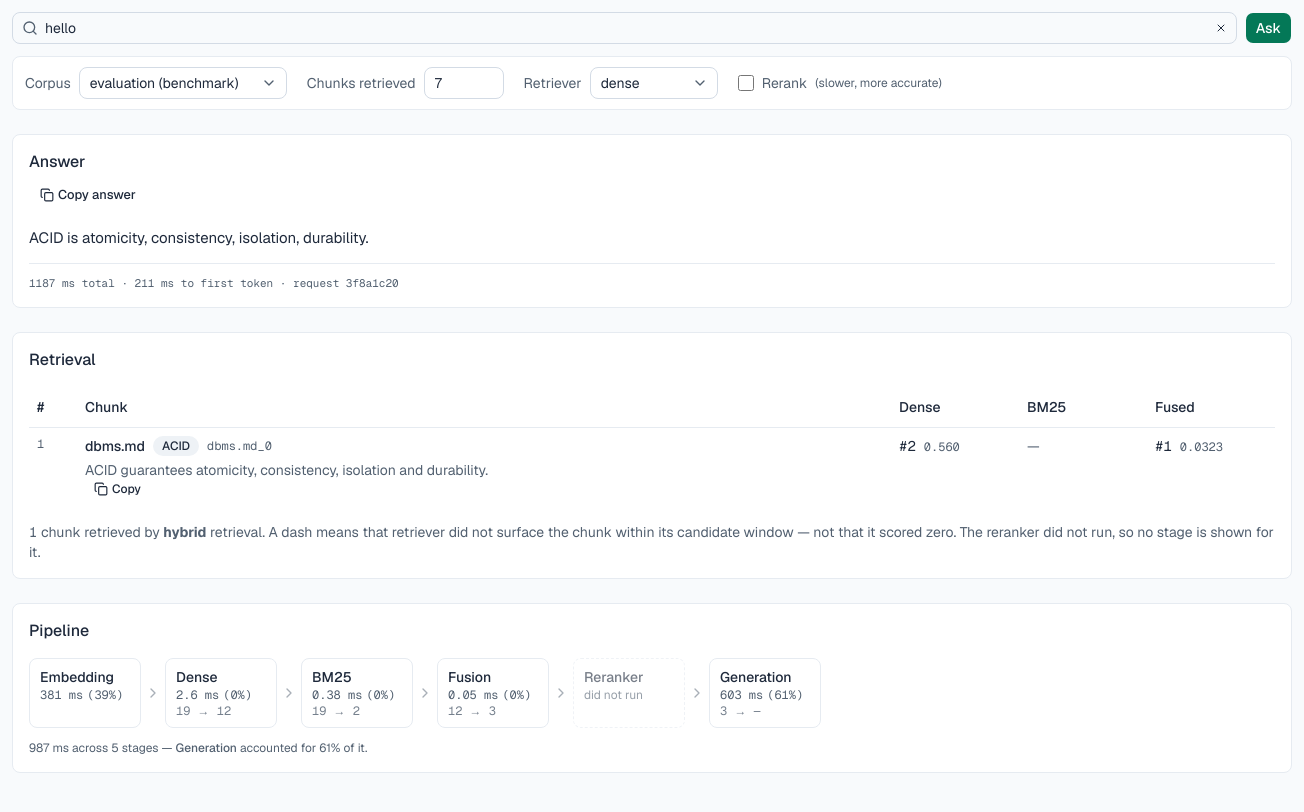
Test: QueryPanel › navigation › restores the current value when the box is left empty
Clear the number field labelled "Chunks retrieved" at (464, 83), box [424, 67, 504, 99]
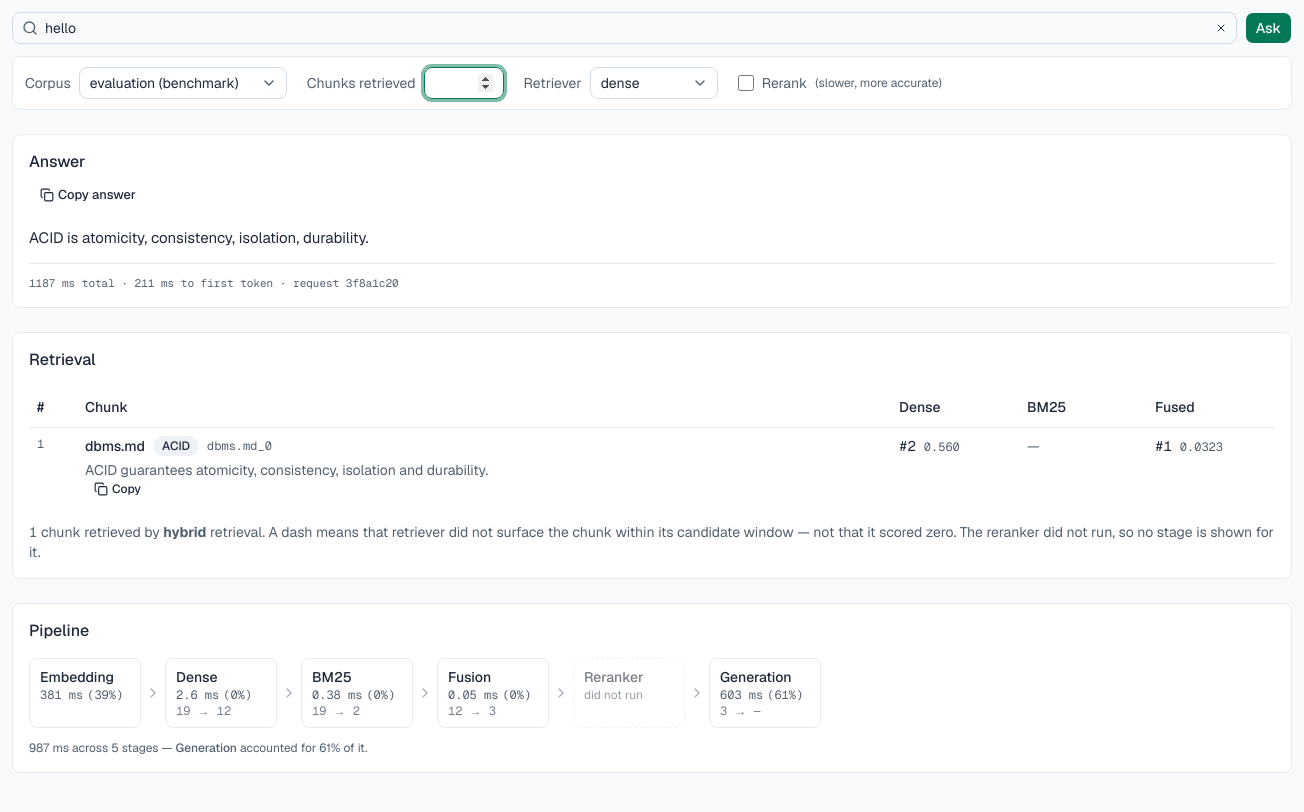
Press Tab
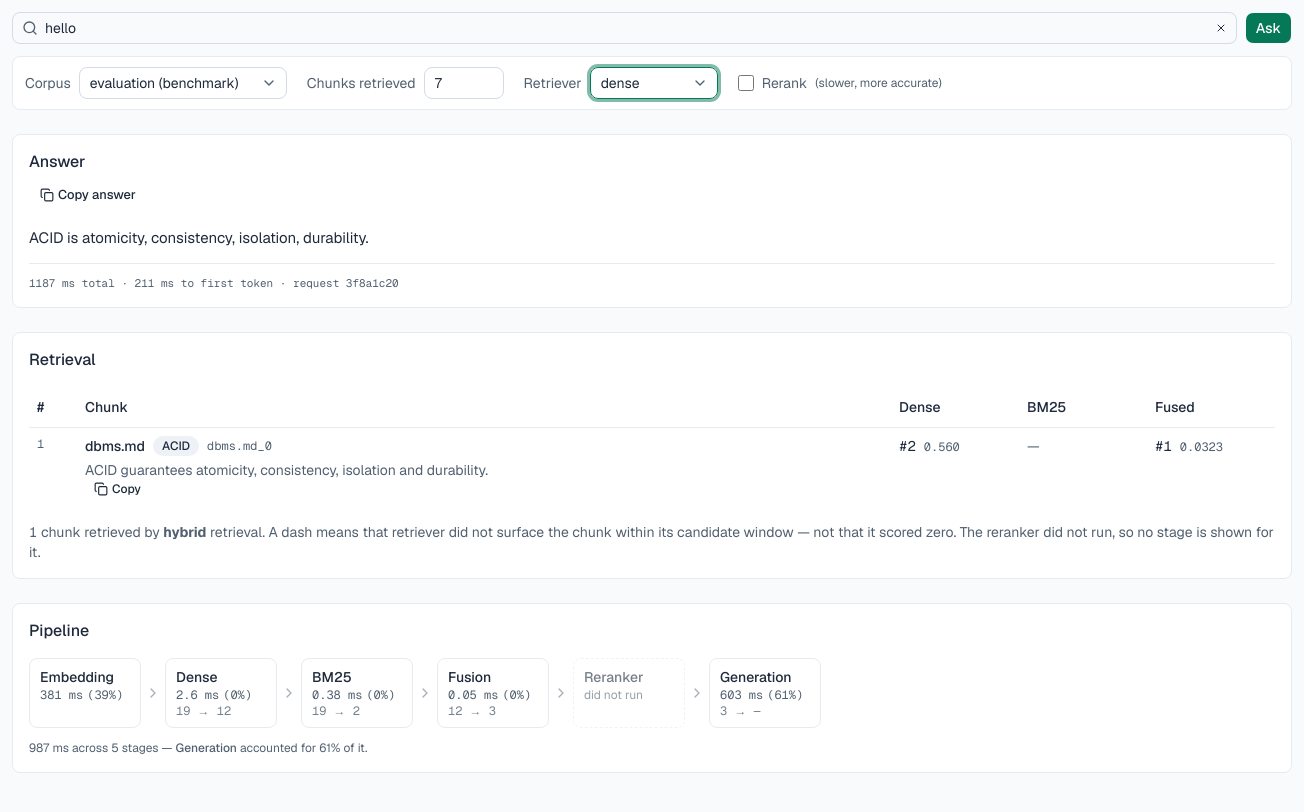
Expected: the number field labelled "Chunks retrieved" holds "7", [424, 67, 504, 99]
